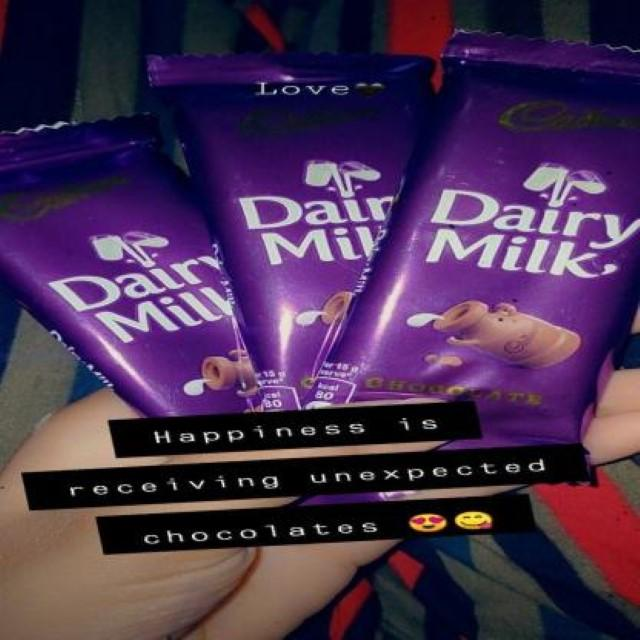cadbury_chocolate: (320, 43, 640, 463), (158, 58, 450, 413), (2, 122, 278, 448)
